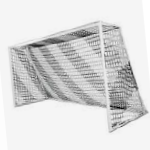goals: (7, 19, 149, 134)
